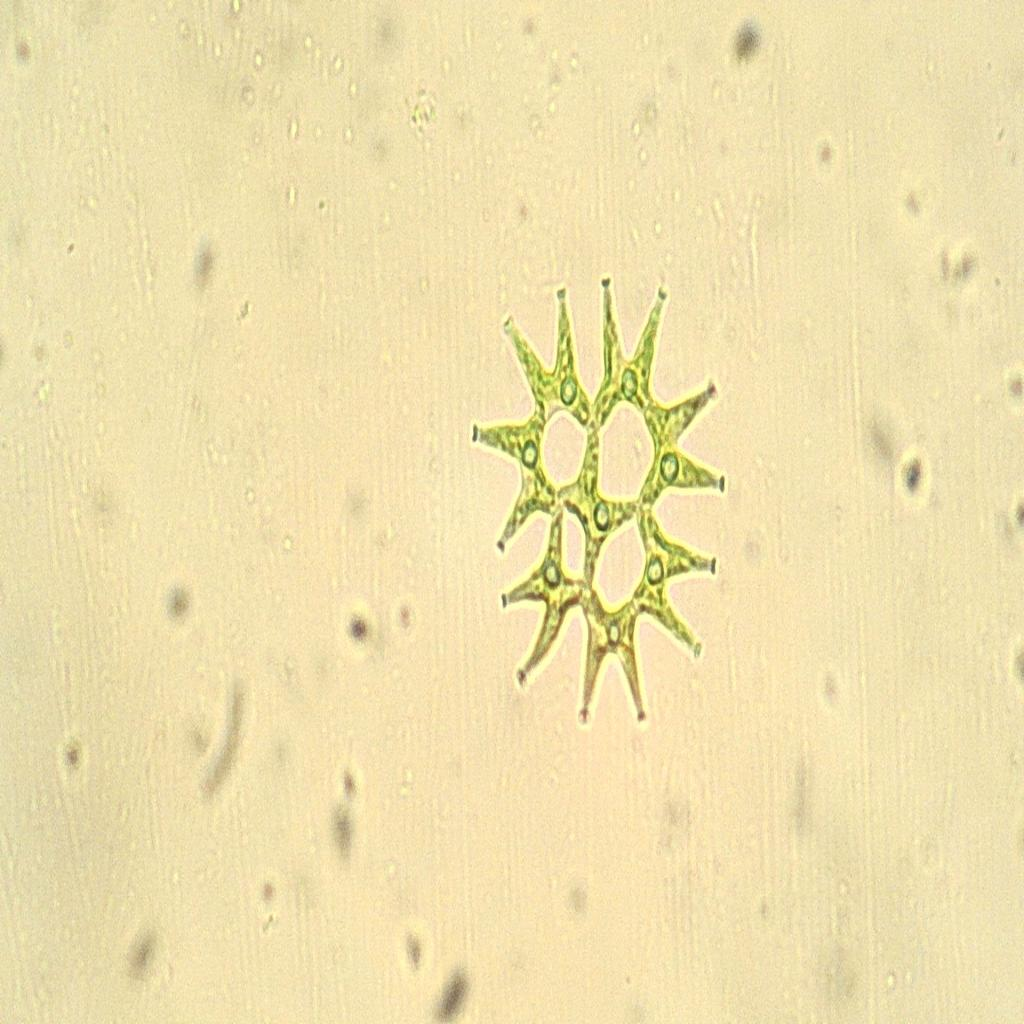Pediastrum_1T: (451, 242, 761, 760)
